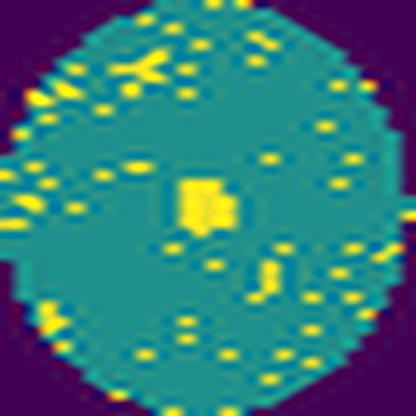Center: (177, 177, 240, 237)
